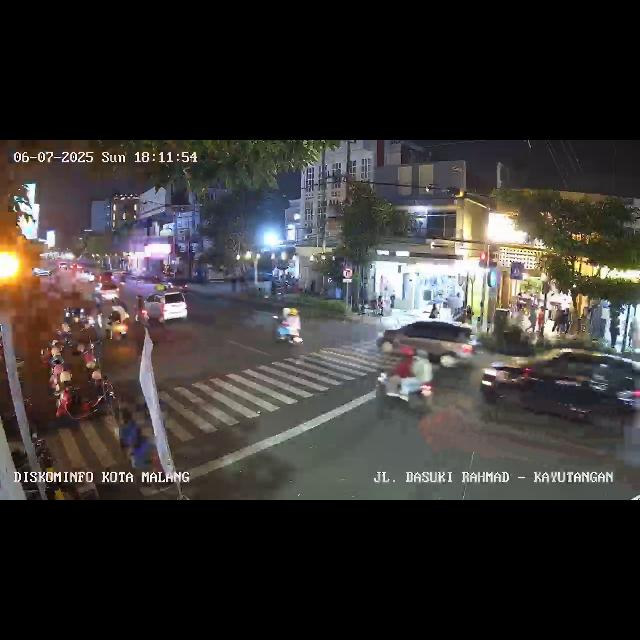car: (480, 349, 640, 431), (380, 317, 480, 373), (144, 290, 190, 326)
motorcycle: (370, 343, 438, 417), (272, 306, 304, 350), (106, 302, 128, 344), (132, 294, 150, 324)
person: (119, 408, 158, 474), (525, 304, 537, 332), (560, 306, 570, 336), (551, 304, 559, 334), (388, 287, 396, 311), (376, 290, 384, 314), (430, 300, 440, 318), (538, 306, 544, 332)
